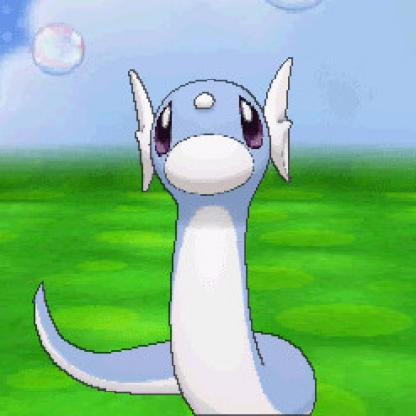Dratini: (31, 65, 323, 415)
